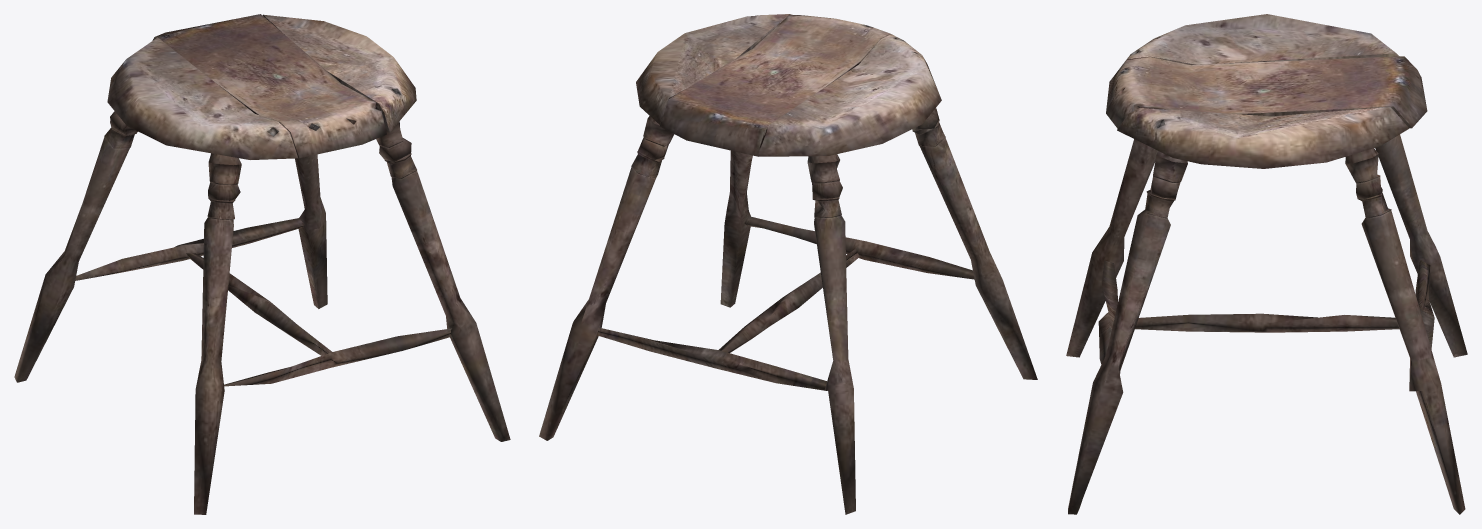
Rendered from wooden_stool_01.glb.
The picture shows the model from 3 angles, left to right: view 1: azimuth 30°, elevation 25°; view 2: azimuth 150°, elevation 25°; view 3: azimuth 270°, elevation 25°; orthographic projection. The views are drawn at different scales.
Parts seen in each view (by area): view 1: wooden_stool_01; view 2: wooden_stool_01; view 3: wooden_stool_01.
Boxes of the visible parts, x1,y1,x2,y2 form: wooden_stool_01: (14, 14, 510, 514); wooden_stool_01: (539, 14, 1037, 514); wooden_stool_01: (1066, 14, 1467, 514).
Bounding box in the file's own units: 0.4246 × 0.434 × 0.4411.
Materials: 1 (1 with a texture image).
